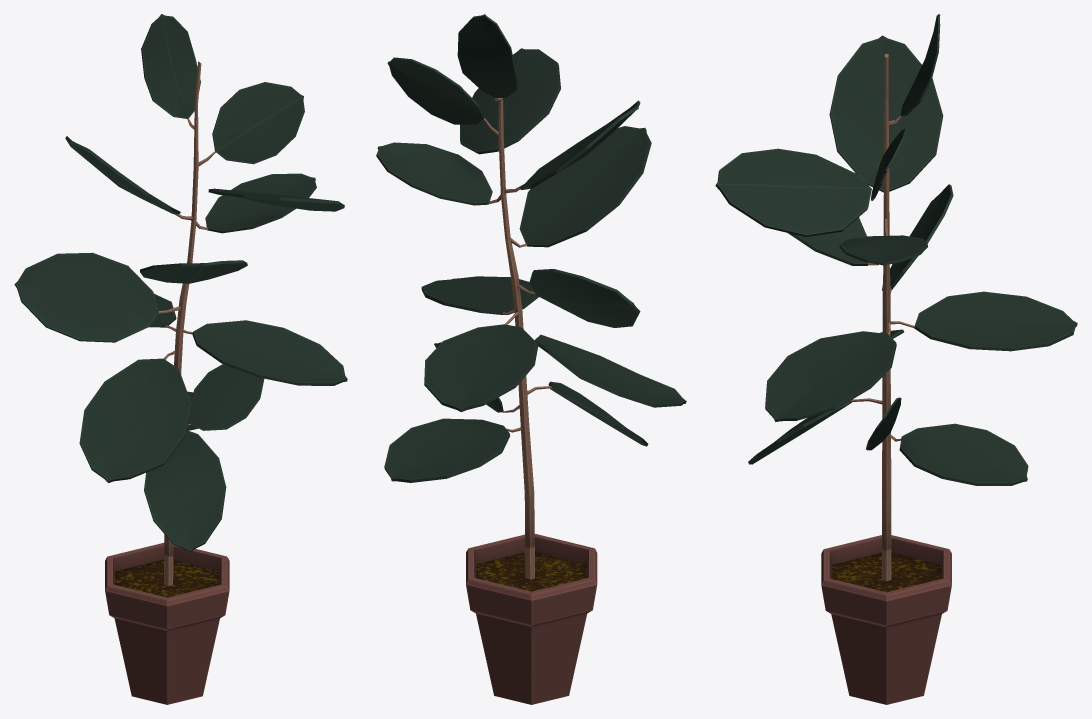
File: plant-rubber-fig-GB.fbx
3 renders of one model, left to right at view 1: azimuth 30°, elevation 25°; view 2: azimuth 150°, elevation 25°; view 3: azimuth 270°, elevation 25°, orthographic. The views are drawn at different scales.
Parts seen in each view (by area): view 1: RubberFigPottedPlant_mesh; view 2: RubberFigPottedPlant_mesh; view 3: RubberFigPottedPlant_mesh.
Boxes of the visible parts, x1=… form: RubberFigPottedPlant_mesh: x1=14, y1=14, x2=347, y2=704; RubberFigPottedPlant_mesh: x1=376, y1=14, x2=686, y2=704; RubberFigPottedPlant_mesh: x1=715, y1=14, x2=1077, y2=704.
Bounding box in the file's own units: 521 × 1193 × 574.
1 material, 1 textured.
